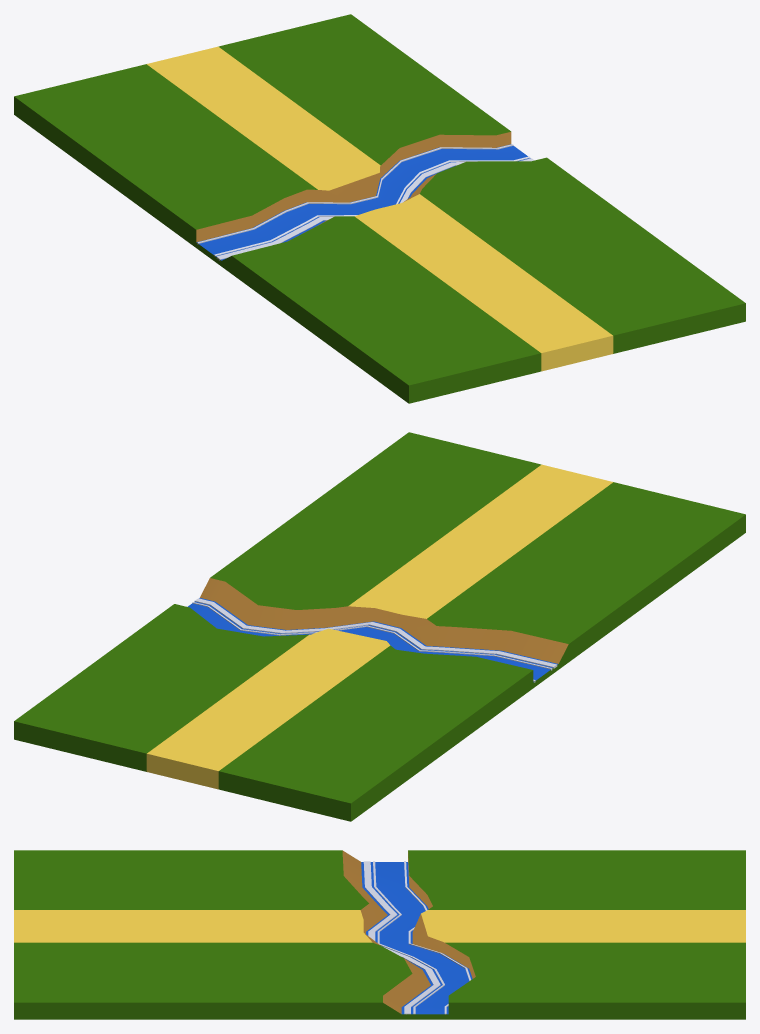
The model's file is SM_Rasentile_02.fbx.
The picture shows the model from 3 angles, top to bottom: view 1: azimuth 30°, elevation 25°; view 2: azimuth 150°, elevation 25°; view 3: azimuth 270°, elevation 25°; orthographic projection. The views are drawn at different scales.
Visible parts, largest first — view 1: Rasentile_02.001; view 2: Rasentile_02.001; view 3: Rasentile_02.001.
Part boxes in pixels (left/top/right/bottom): Rasentile_02.001: left=14, top=14, right=745, bottom=403; Rasentile_02.001: left=14, top=432, right=745, bottom=821; Rasentile_02.001: left=14, top=850, right=745, bottom=1019.
Bounding box in the file's own units: 2461 × 141 × 4996.
